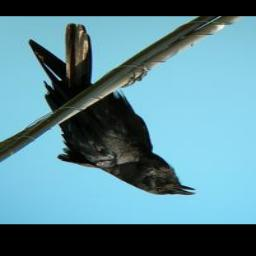Crow: (27, 22, 196, 197)
